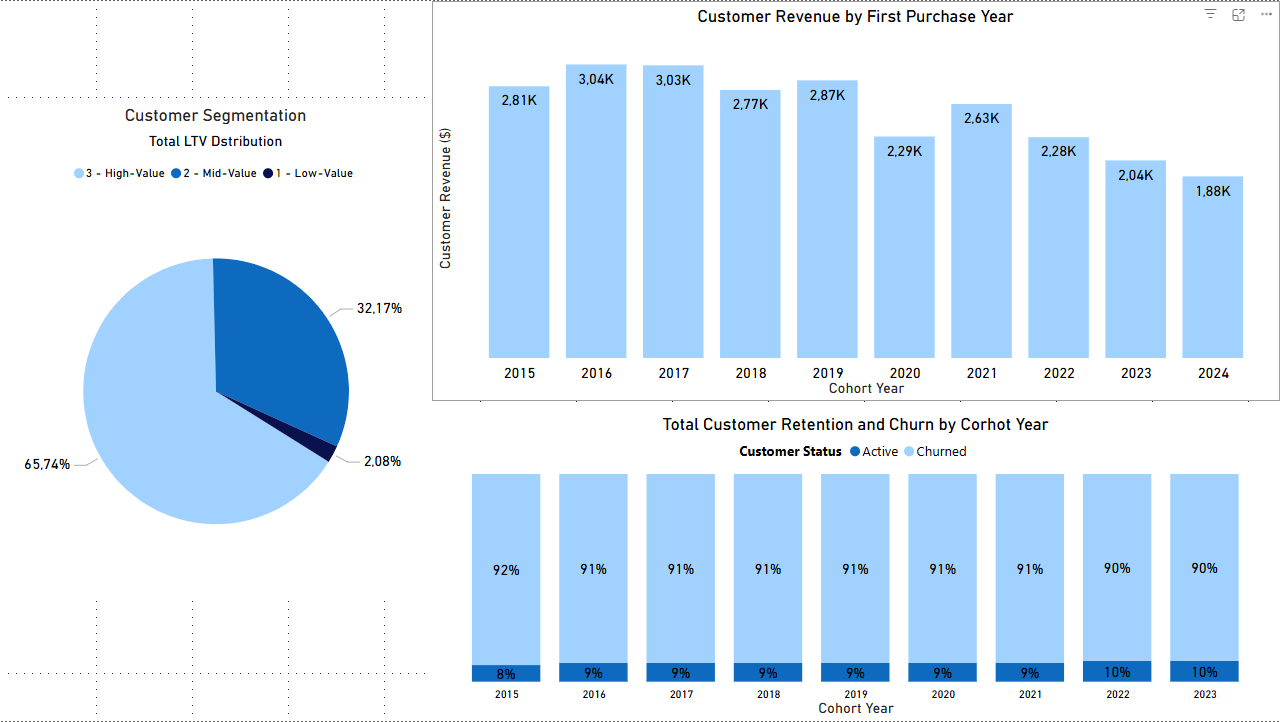

This screenshot's page, from the dashboard's own definition file:
{"tool":"powerbi","page":{"name":"Page 1","canvas":[1280,720],"ordinal":0},"visuals":[{"type":"pieChart","title":"Customer Segmentation","fields":{"Category":["1_customer_segmentation.customer_segment"],"Y":["Sum(1_customer_segmentation.total_ltv)"]},"box":[0,104,432,496],"z":0},{"type":"clusteredColumnChart","title":"Customer Revenue by First Purchase Year","fields":{"Category":["2_cohort_analysis.cohort_year"],"Y":["Sum(2_cohort_analysis.customer_revenue)"]},"box":[432,8,848,400],"z":1000},{"type":"hundredPercentStackedColumnChart","title":"Total Customer Retention and Churn by Corhot Year","fields":{"Category":["3_retention_analysis.cohort_year"],"Series":["3_retention_analysis.customer_status"],"Y":["Sum(3_retention_analysis.satus_prct)"]},"box":[432,408,848,312],"z":2000}]}

Visuals, with their boxes in screenshot pixels (x1, y1, x2, y2), scaled from the page's 1280x720 canvas onto the 1280x722 screenshot:
"Customer Segmentation" pieChart: (x1=0, y1=104, x2=432, y2=602)
"Customer Revenue by First Purchase Year" clusteredColumnChart: (x1=432, y1=8, x2=1279, y2=409)
"Total Customer Retention and Churn by Corhot Year" hundredPercentStackedColumnChart: (x1=432, y1=409, x2=1279, y2=721)
